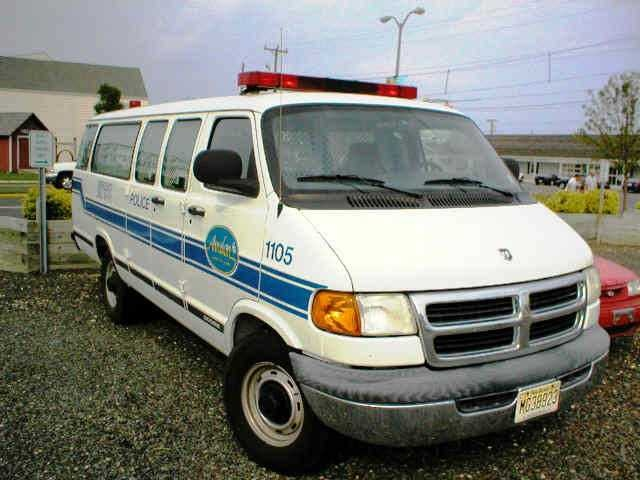Police Van: (59, 75, 616, 463)
